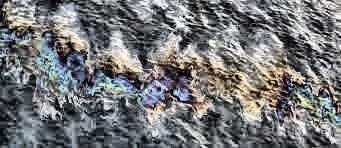rainbow: (0, 14, 200, 112), (273, 67, 337, 132)
truecolor: (191, 62, 280, 112)
